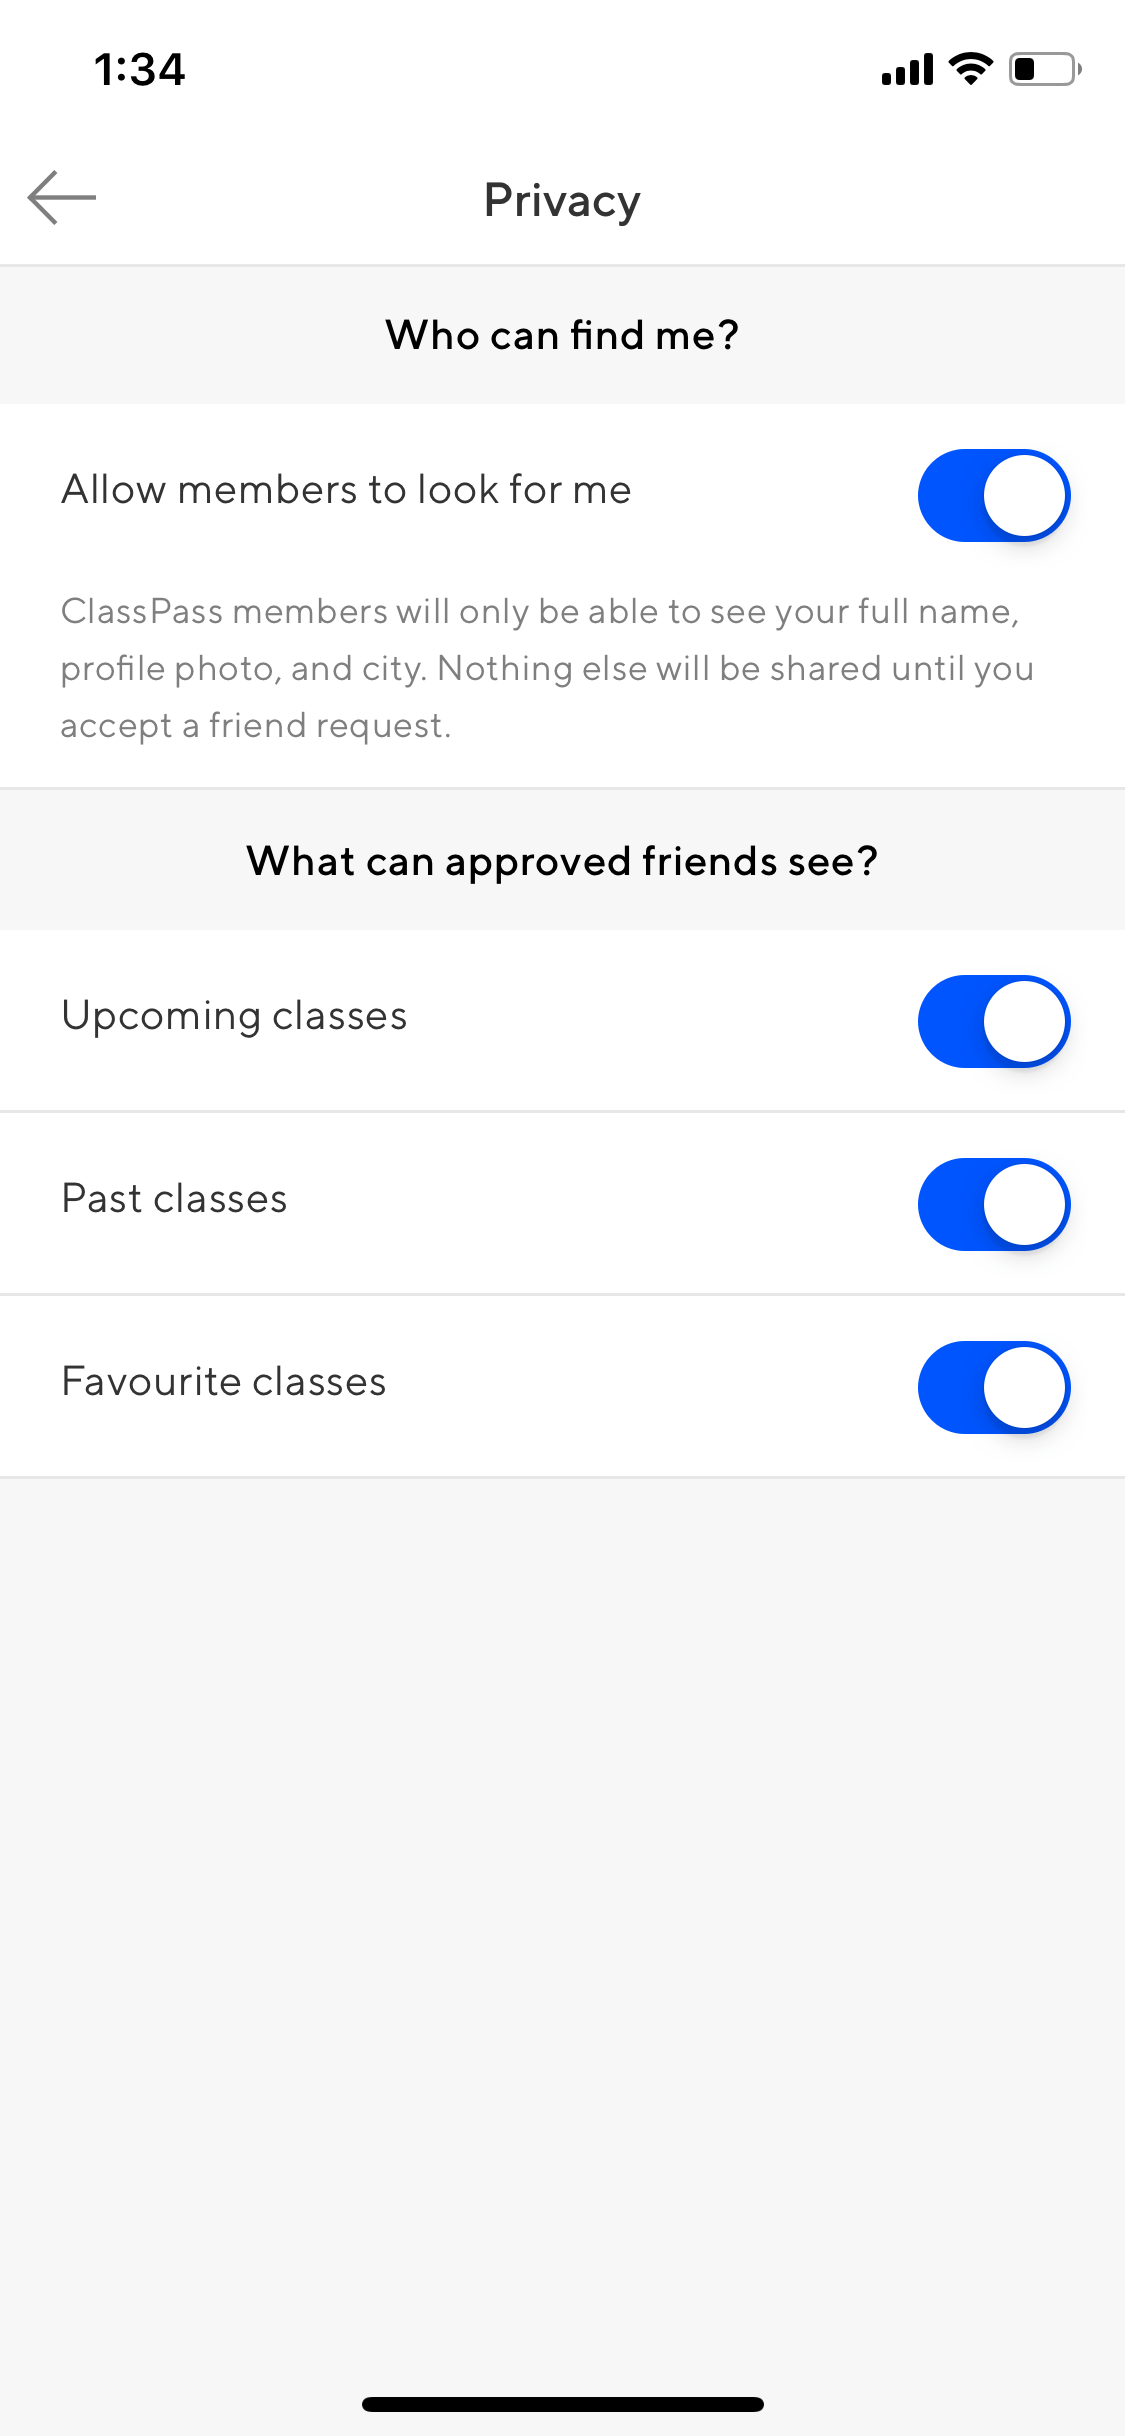Buttons: (2, 109, 148, 263)
Switches: (903, 437, 1078, 555), (906, 1333, 1077, 1445), (911, 1150, 1078, 1263), (915, 968, 1078, 1074)
